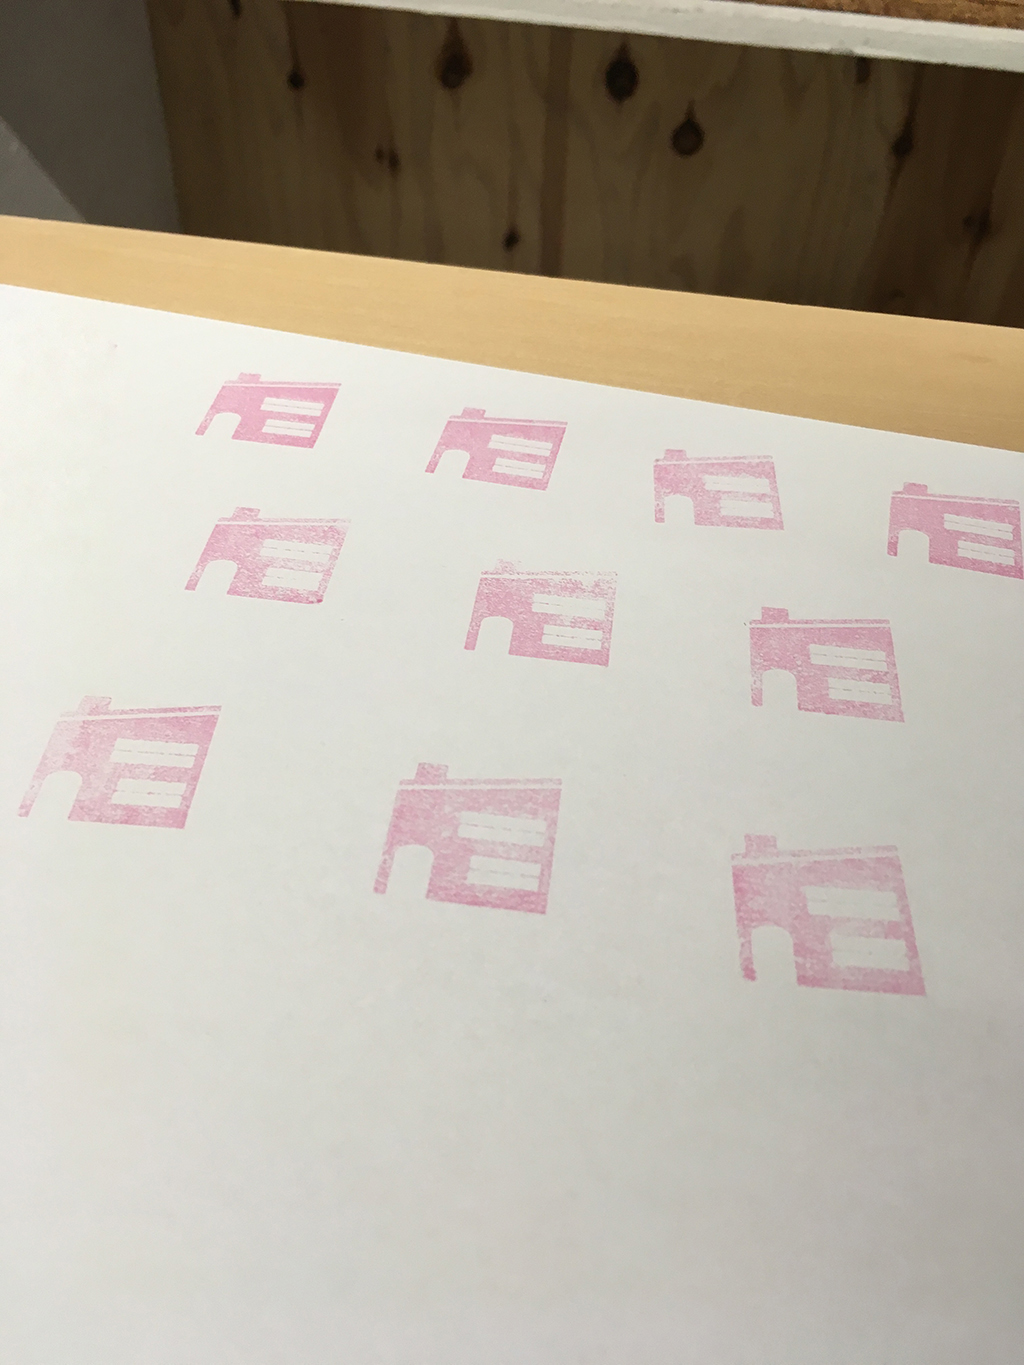house: (359, 740, 589, 933), (721, 823, 943, 1012), (1, 680, 241, 851), (741, 597, 924, 744), (175, 497, 362, 621), (454, 548, 628, 678), (179, 358, 352, 470), (636, 433, 801, 544), (879, 474, 1024, 589), (414, 398, 575, 501)
